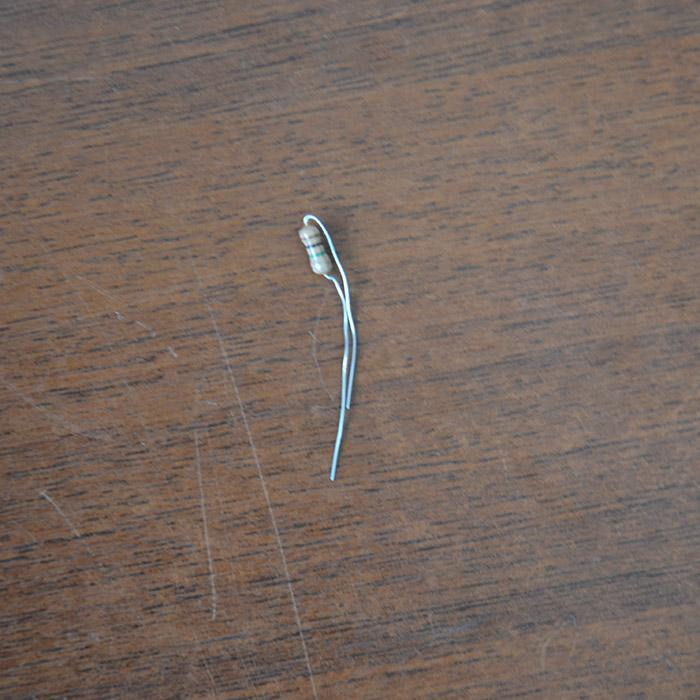resistor: (298, 222, 333, 277)
